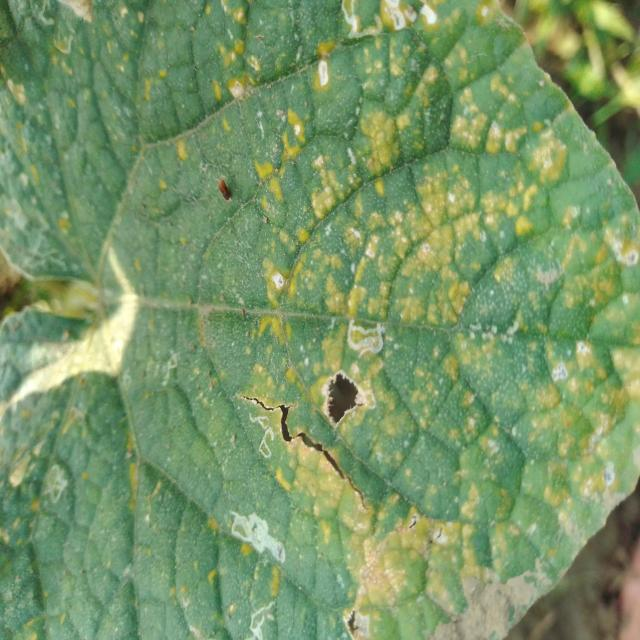cucumber_downy: (37, 10, 624, 640)
